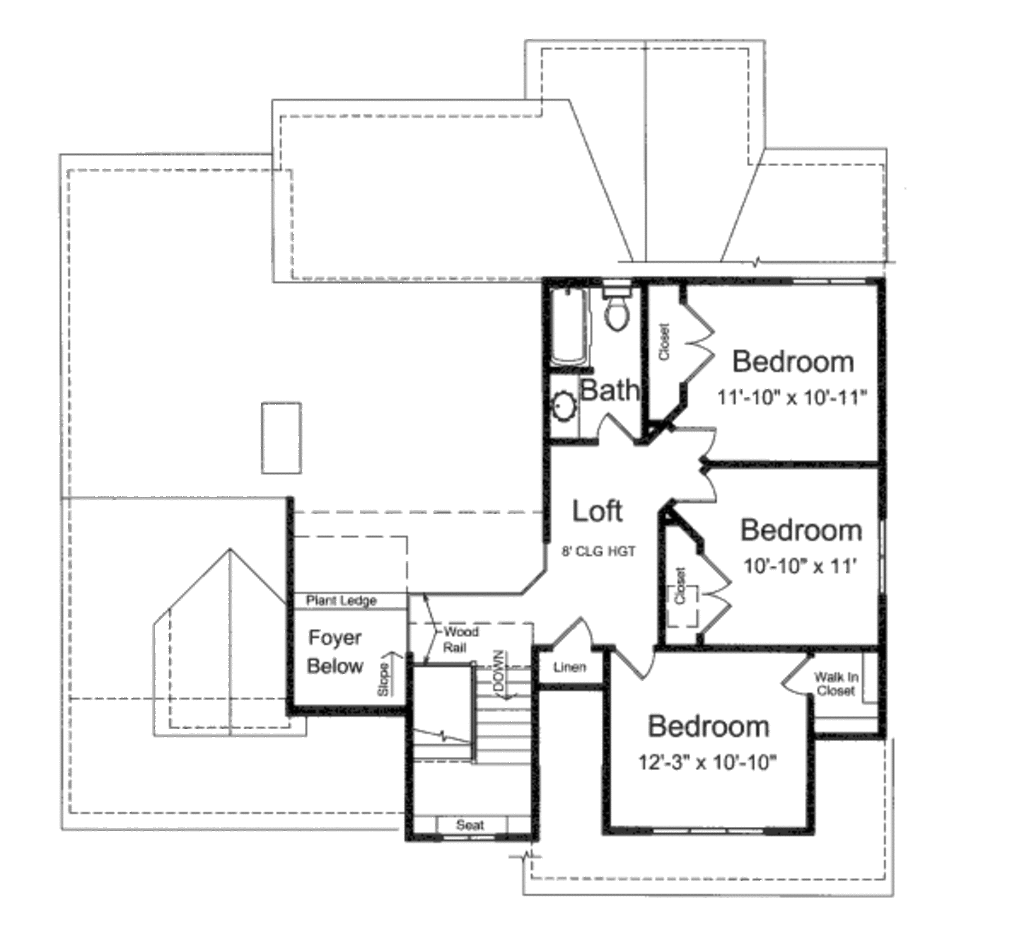door: (689, 546, 737, 640), (675, 300, 724, 385), (579, 409, 643, 458), (662, 413, 730, 456), (543, 606, 599, 655), (605, 643, 660, 687), (669, 465, 724, 507), (775, 648, 815, 697)
large_sink: (597, 272, 636, 336)
small_sink: (544, 375, 579, 436)
stairs: (418, 623, 526, 830)
tub: (546, 281, 592, 368)
window: (646, 819, 765, 846), (873, 511, 902, 610), (791, 271, 865, 287)
